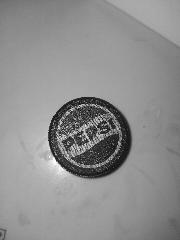plastic: (47, 96, 128, 177)
